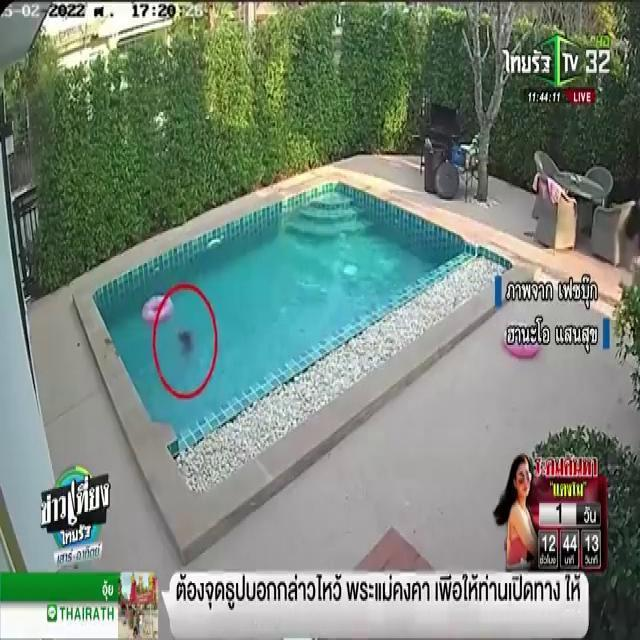Out of Water: (168, 322, 202, 373)
